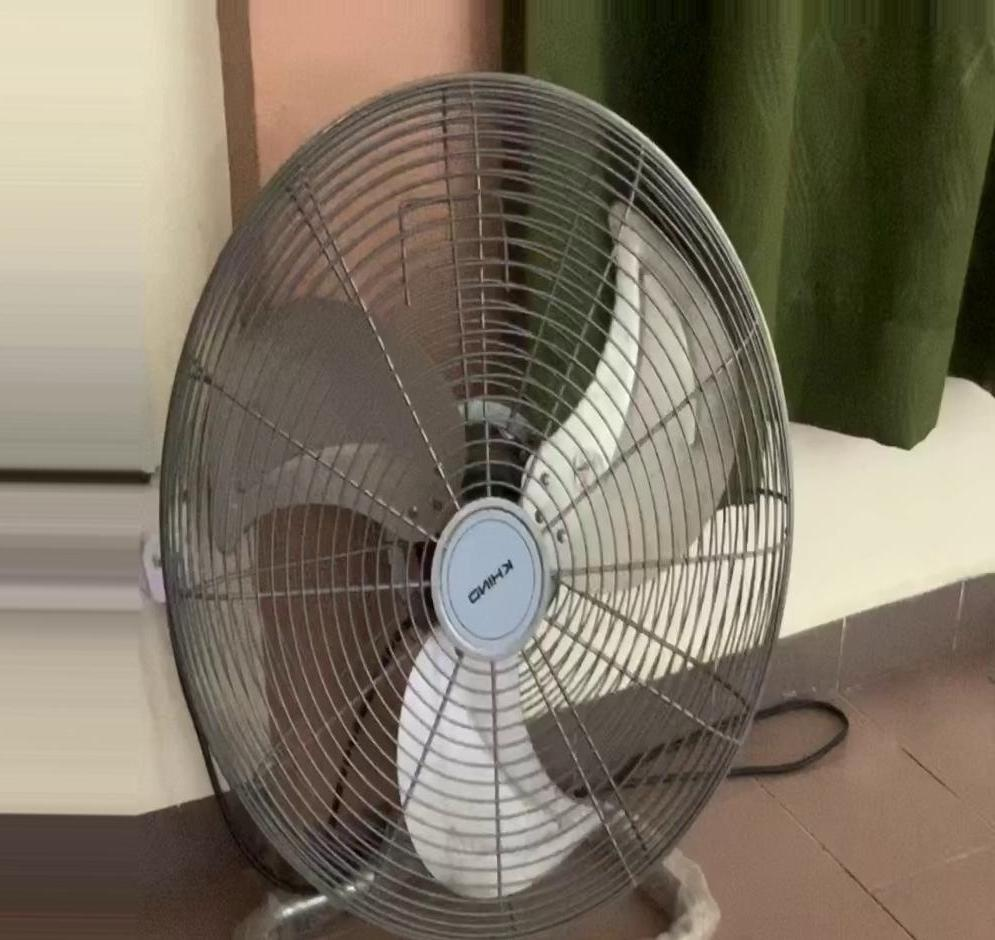fan: (129, 60, 800, 940)
